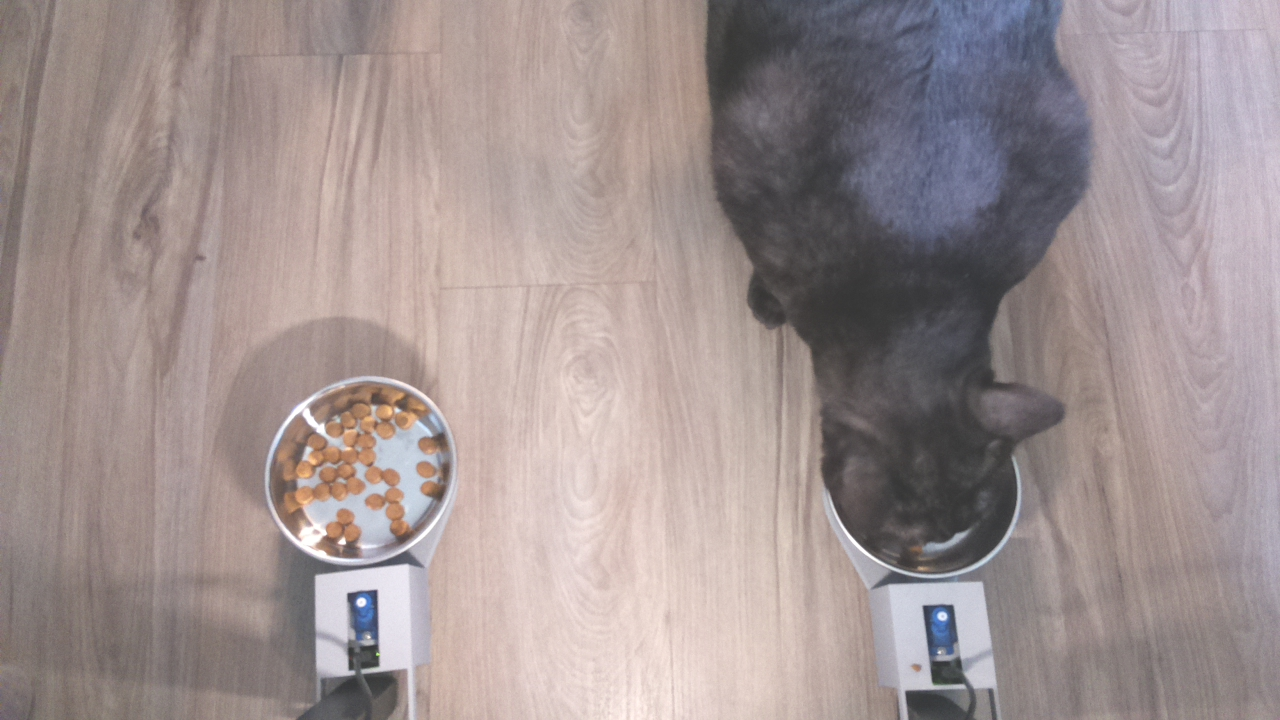open_bowl: (258, 372, 459, 572)
saki_eating: (801, 313, 1097, 587)
